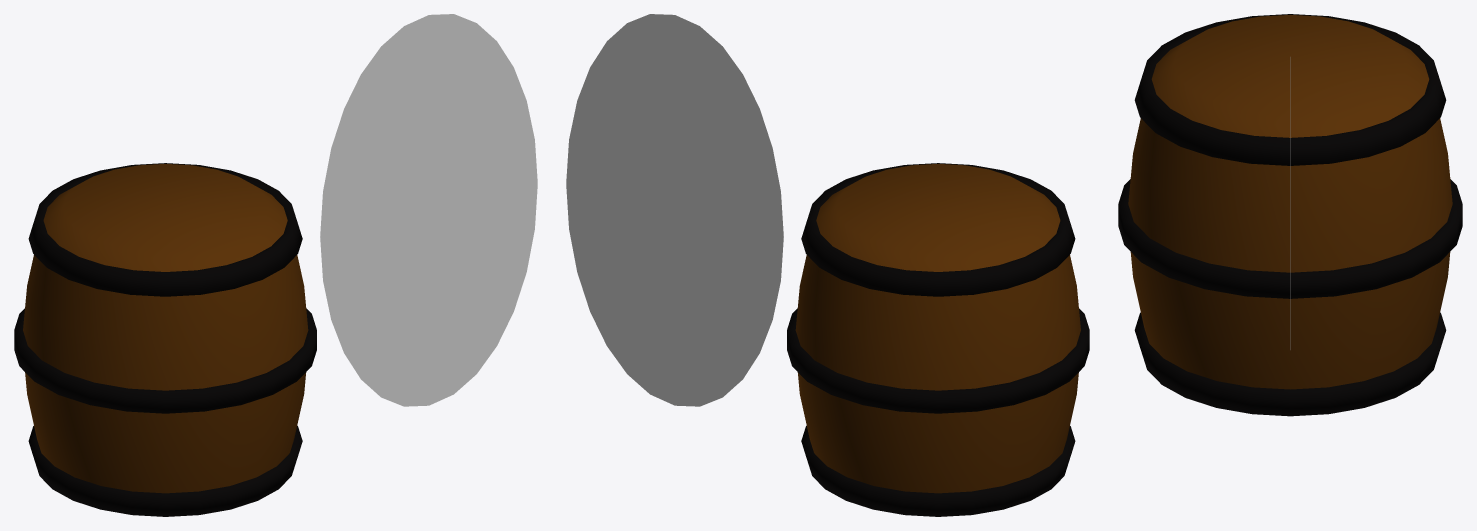
Rendered from DungeonProps.FBX.
The picture shows the model from 3 angles, left to right: view 1: azimuth 30°, elevation 25°; view 2: azimuth 150°, elevation 25°; view 3: azimuth 270°, elevation 25°; orthographic projection. The views are drawn at different scales.
Parts seen in each view (by area): view 1: Barrel, Portal; view 2: Barrel, Portal; view 3: Barrel.
Part boxes in pixels (x1,y1,x2,y2): Barrel: (14, 163, 316, 516); Portal: (320, 14, 537, 406); Barrel: (787, 163, 1089, 516); Portal: (566, 14, 783, 406); Barrel: (1118, 14, 1462, 416).
Bounding box in the file's own units: 1.98 × 1.48 × 1.03.
